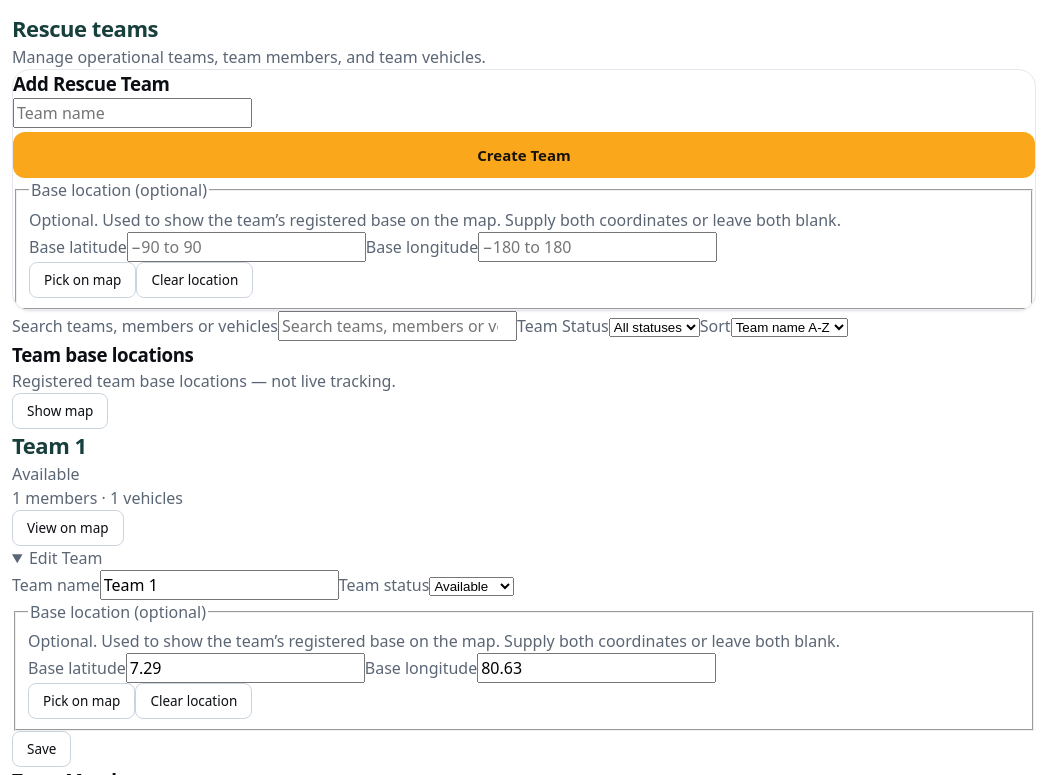
Test: optional base coordinate inputs › clears existing coordinates with explicit null values
The image size is (1048, 775).
Clear the field labelled "Base latitude" below "Team name" at (245, 668), box [126, 653, 365, 683]
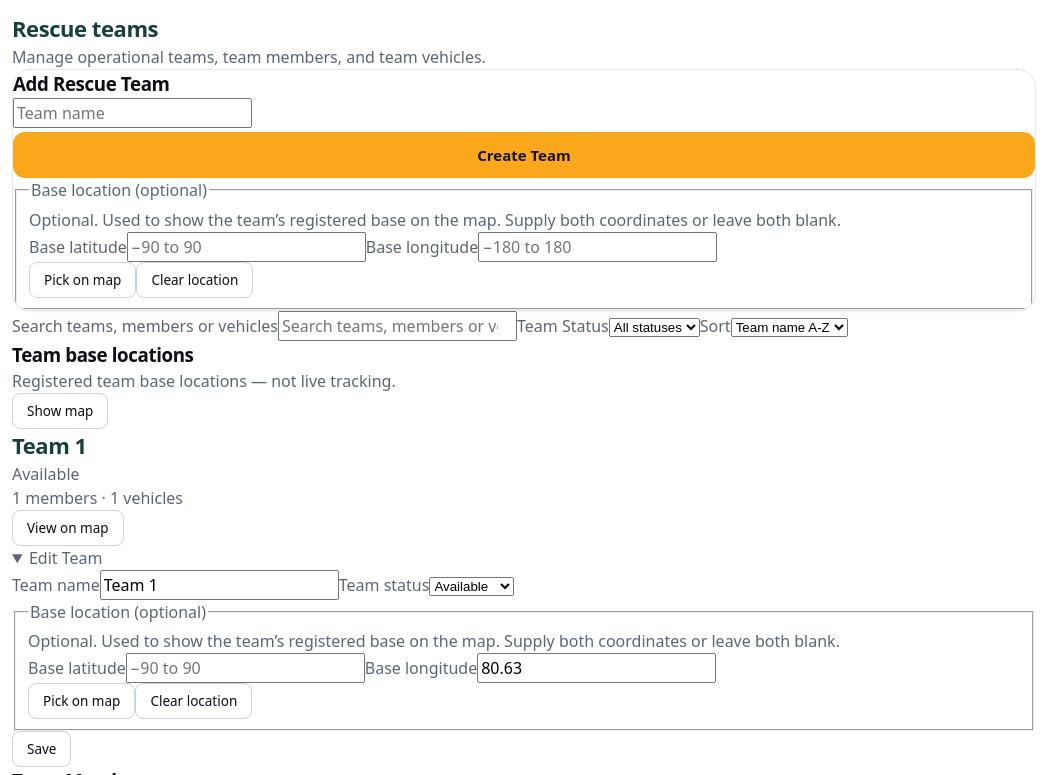
Clear the 2nd field labelled "Base longitude" at (597, 668), box [477, 653, 716, 683]
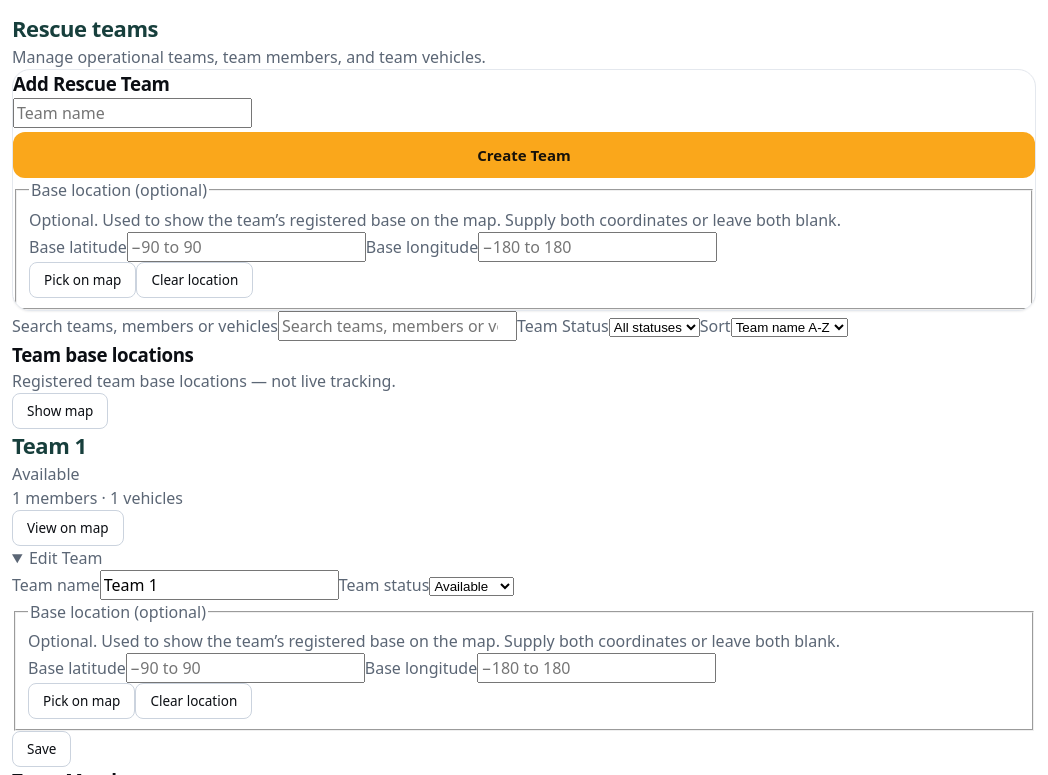
Submit the form that starts with "Team name", box [12, 570, 1036, 767]
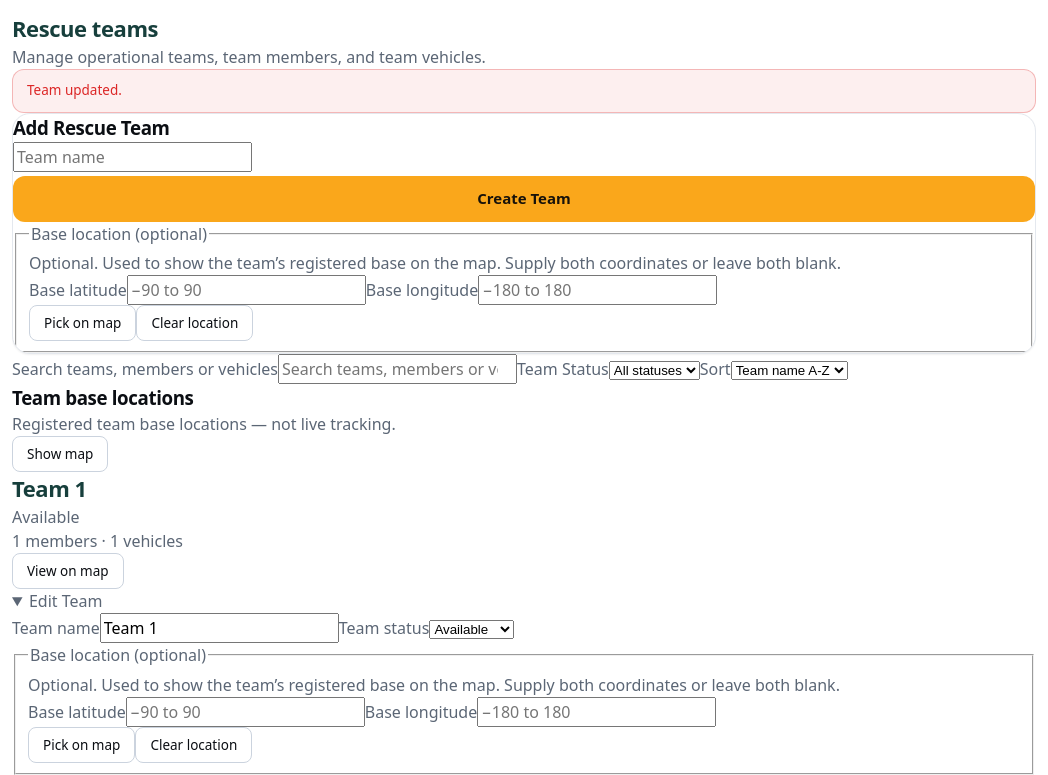
Check: the text "Team updated." is shown, box [12, 69, 1036, 113]
